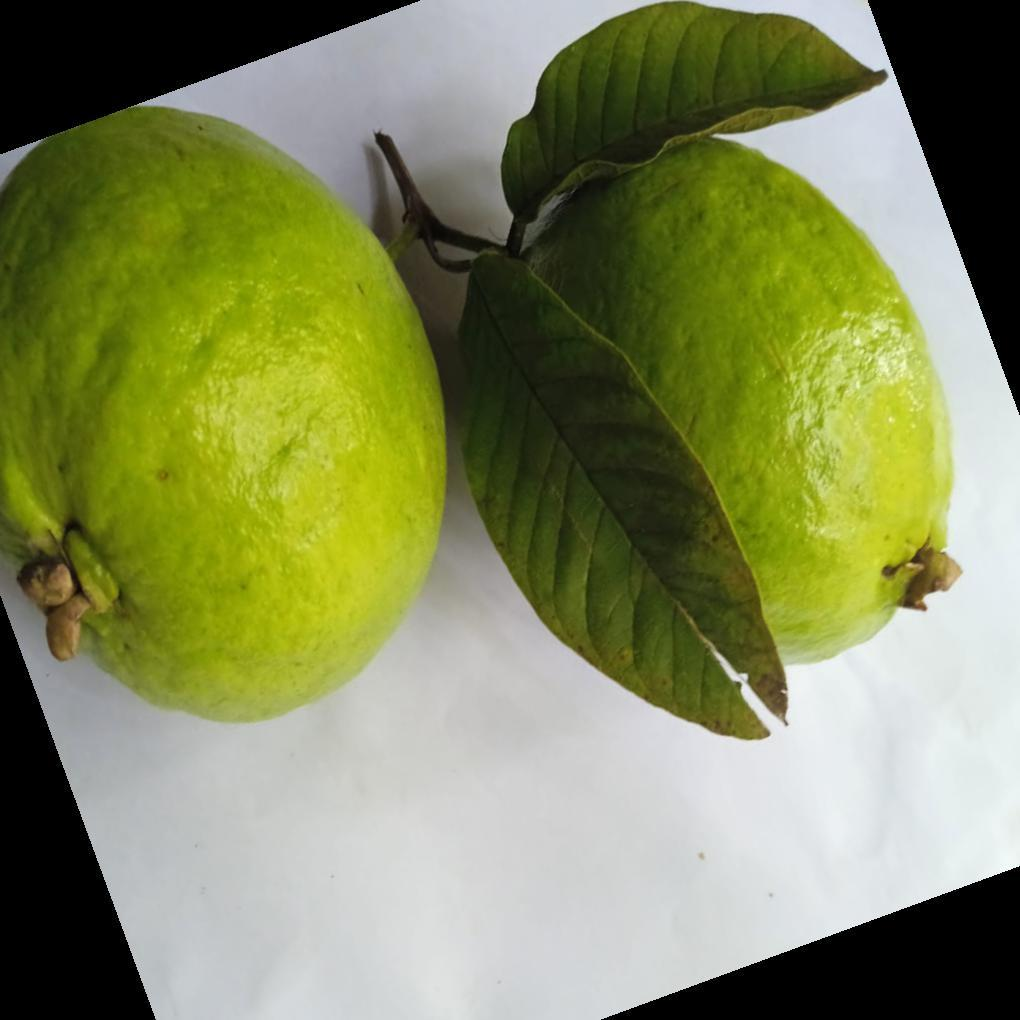FreshGuava: (366, 0, 961, 744), (0, 104, 451, 728)
